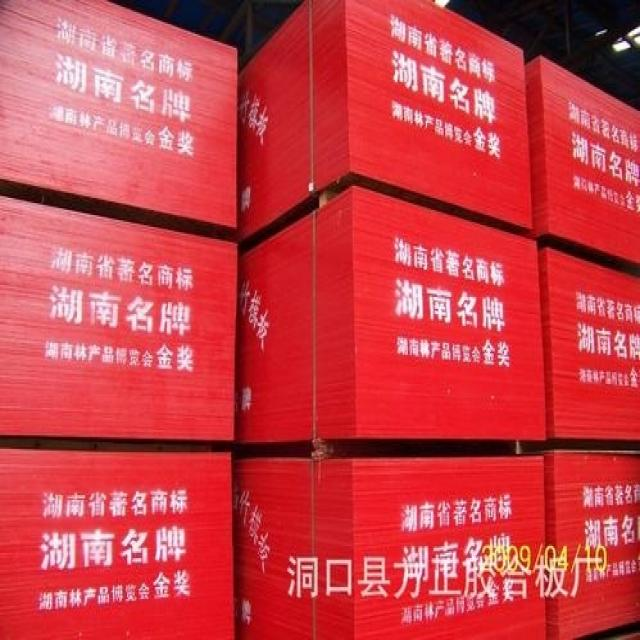box: (234, 187, 547, 443), (239, 1, 531, 242), (0, 195, 237, 443), (234, 458, 546, 638), (0, 2, 237, 232), (0, 449, 236, 638), (525, 58, 639, 266), (539, 249, 639, 441), (542, 450, 639, 637)
